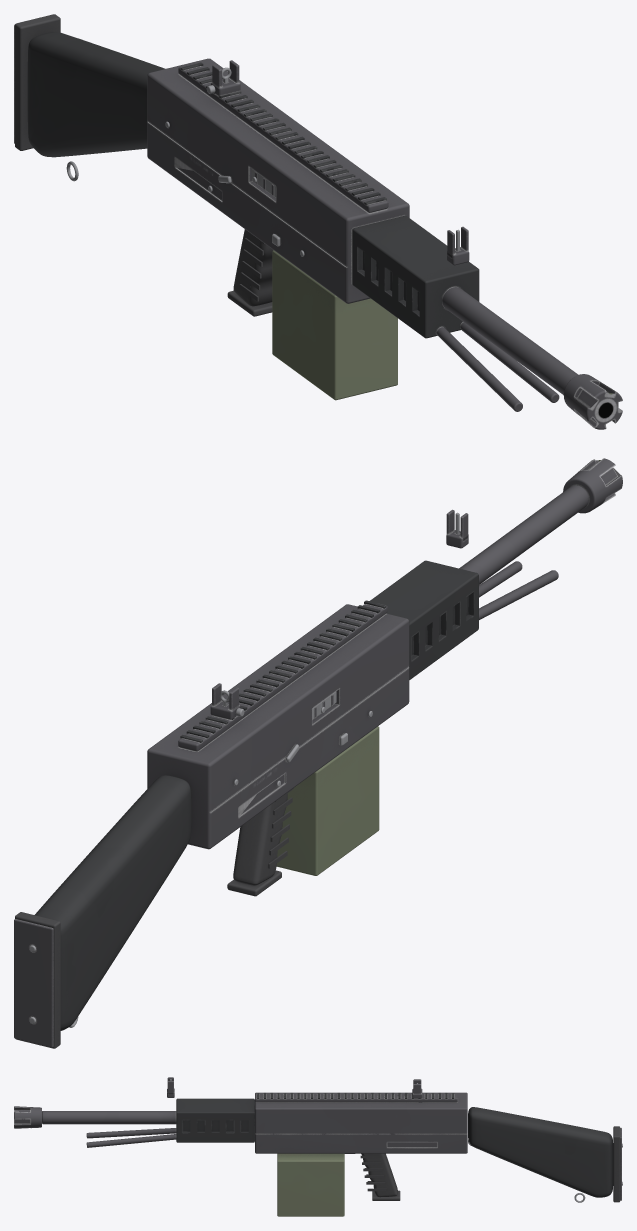
The picture shows the model from 3 angles, top to bottom: view 1: azimuth 30°, elevation 25°; view 2: azimuth 150°, elevation 25°; view 3: azimuth 270°, elevation 25°; orthographic projection. The views are drawn at different scales.
Parts seen in each view (by area): view 1: m249; view 2: m249; view 3: m249.
Part boxes in pixels (x1,y1,x2,y2): m249: [14, 14, 622, 429]; m249: [14, 458, 622, 1048]; m249: [14, 1077, 622, 1216].
Bounding box in the file's own units: 0.0842 × 0.2497 × 1.09.
